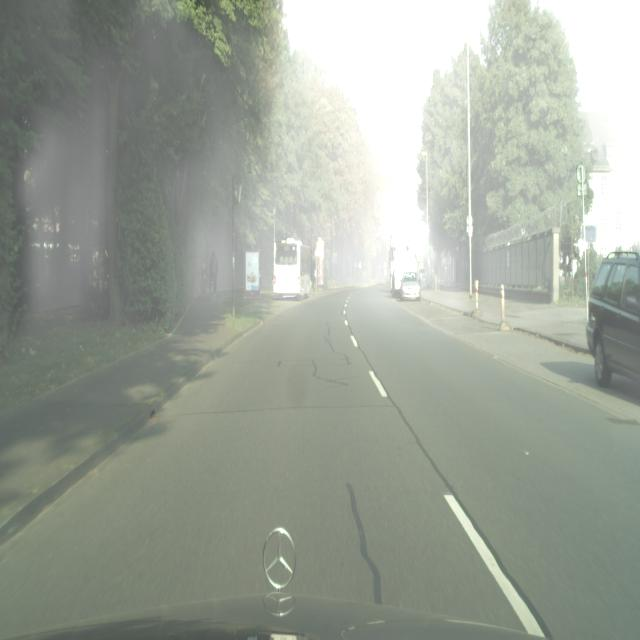car: (586, 251, 640, 390), (400, 272, 421, 301)
motorcycle: (273, 238, 311, 299)
rider: (390, 238, 416, 298)
truck: (209, 251, 218, 299), (200, 261, 207, 297)
